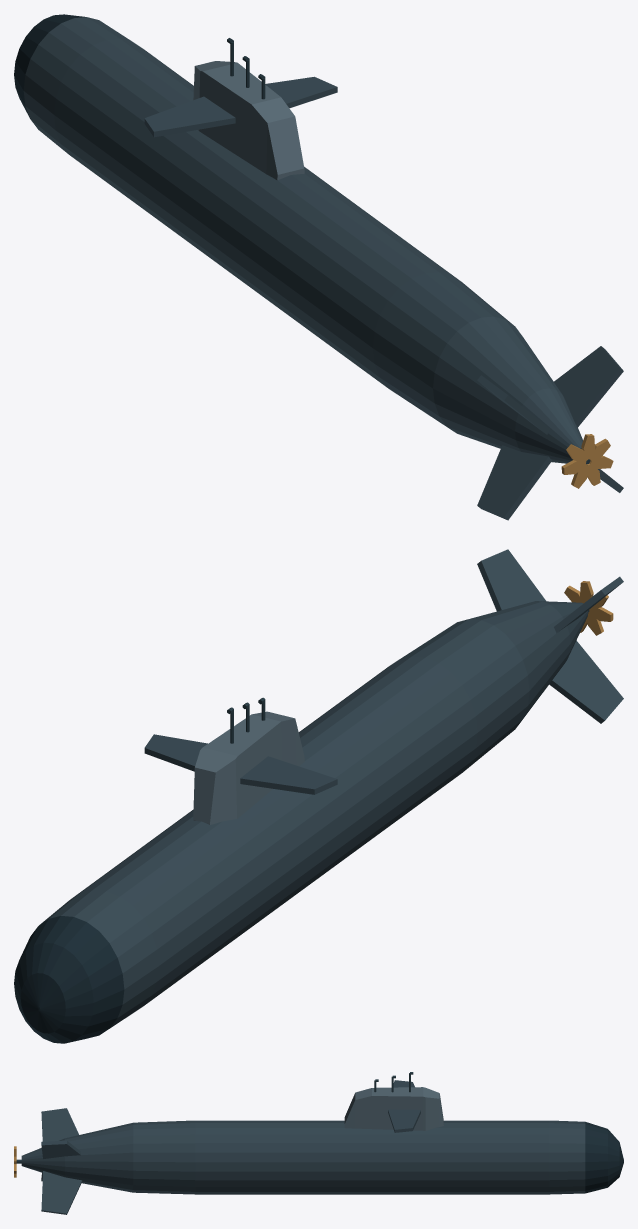
The model's file is archive-soryu-early.glb.
3 renders of one model, top to bottom at view 1: azimuth 30°, elevation 25°; view 2: azimuth 150°, elevation 25°; view 3: azimuth 270°, elevation 25°, orthographic. The views are drawn at different scales.
Visible parts, largest first — view 1: archive-soryu-early-pressure_hull.007-geometry, archive-soryu-early-submarine_sail.007-geometry, archive-soryu-early-stern_rudder_1.002-geometry, archive-soryu-early-stern_rudder_3.002-geometry, archive-soryu-early-diving_plane_-1.007-geometry, archive-soryu-early-screw_0.007-geometry, archive-soryu-early-diving_plane_1.007-geometry, archive-soryu-early-stern_rudder_2.002-geometry; view 2: archive-soryu-early-pressure_hull.007-geometry, archive-soryu-early-submarine_sail.007-geometry, archive-soryu-early-stern_rudder_1.002-geometry, archive-soryu-early-stern_rudder_3.002-geometry, archive-soryu-early-diving_plane_-1.007-geometry, archive-soryu-early-diving_plane_1.007-geometry, archive-soryu-early-screw_0.007-geometry, archive-soryu-early-stern_rudder_2.002-geometry; view 3: archive-soryu-early-pressure_hull.007-geometry, archive-soryu-early-submarine_sail.007-geometry, archive-soryu-early-stern_rudder_0.002-geometry, archive-soryu-early-stern_rudder_2.002-geometry, archive-soryu-early-diving_plane_1.007-geometry, archive-soryu-early-stern_rudder_3.002-geometry.
Part boxes in pixels (left/top/right/bottom): archive-soryu-early-pressure_hull.007-geometry: left=14, top=14, right=582, bottom=463; archive-soryu-early-submarine_sail.007-geometry: left=193, top=38, right=304, bottom=180; archive-soryu-early-stern_rudder_1.002-geometry: left=477, top=445, right=552, bottom=520; archive-soryu-early-stern_rudder_3.002-geometry: left=554, top=346, right=623, bottom=426; archive-soryu-early-diving_plane_-1.007-geometry: left=144, top=96, right=235, bottom=137; archive-soryu-early-screw_0.007-geometry: left=561, top=434, right=613, bottom=488; archive-soryu-early-diving_plane_1.007-geometry: left=265, top=76, right=337, bottom=108; archive-soryu-early-stern_rudder_2.002-geometry: left=477, top=375, right=549, bottom=434; archive-soryu-early-pressure_hull.007-geometry: left=14, top=601, right=588, bottom=1043; archive-soryu-early-submarine_sail.007-geometry: left=193, top=697, right=304, bottom=824; archive-soryu-early-stern_rudder_1.002-geometry: left=549, top=640, right=623, bottom=723; archive-soryu-early-stern_rudder_3.002-geometry: left=477, top=549, right=545, bottom=611; archive-soryu-early-diving_plane_-1.007-geometry: left=240, top=756, right=337, bottom=794; archive-soryu-early-diving_plane_1.007-geometry: left=144, top=734, right=207, bottom=771; archive-soryu-early-screw_0.007-geometry: left=564, top=581, right=613, bottom=635; archive-soryu-early-stern_rudder_2.002-geometry: left=554, top=576, right=623, bottom=632; archive-soryu-early-pressure_hull.007-geometry: left=21, top=1120, right=623, bottom=1194; archive-soryu-early-submarine_sail.007-geometry: left=344, top=1072, right=443, bottom=1130; archive-soryu-early-stern_rudder_0.002-geometry: left=41, top=1171, right=82, bottom=1214; archive-soryu-early-stern_rudder_2.002-geometry: left=41, top=1108, right=78, bottom=1141; archive-soryu-early-diving_plane_1.007-geometry: left=388, top=1109, right=420, bottom=1132; archive-soryu-early-stern_rudder_3.002-geometry: left=41, top=1140, right=80, bottom=1158.
Bounding box in the file's own units: 1.9 × 2.25 × 9.82.
